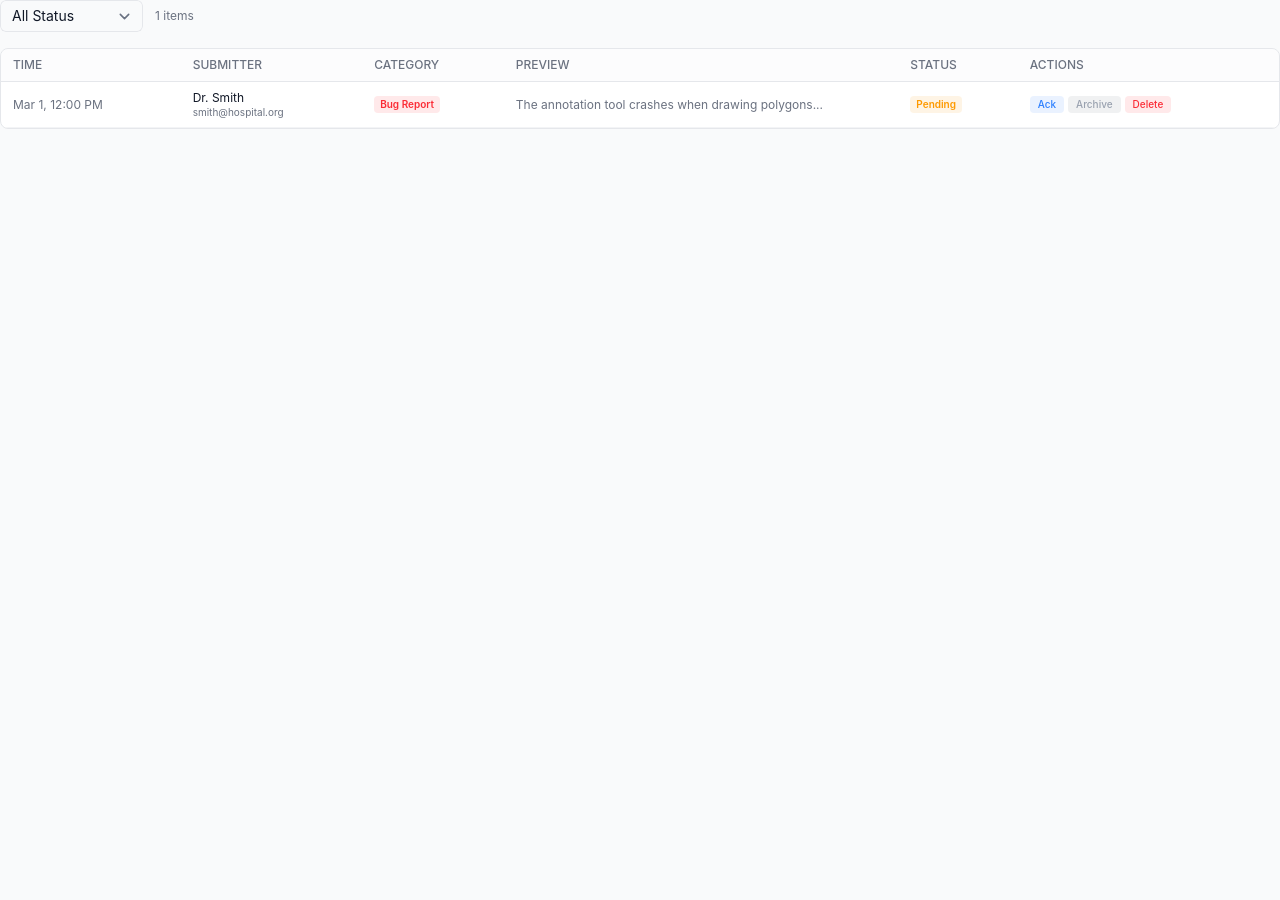
Scenario: Admin Feedback Page › delete with confirmation › closes dialog on cancel without deleting
Step 1. Click the button "Delete" → [1148, 105], box [1125,96,1171,113]
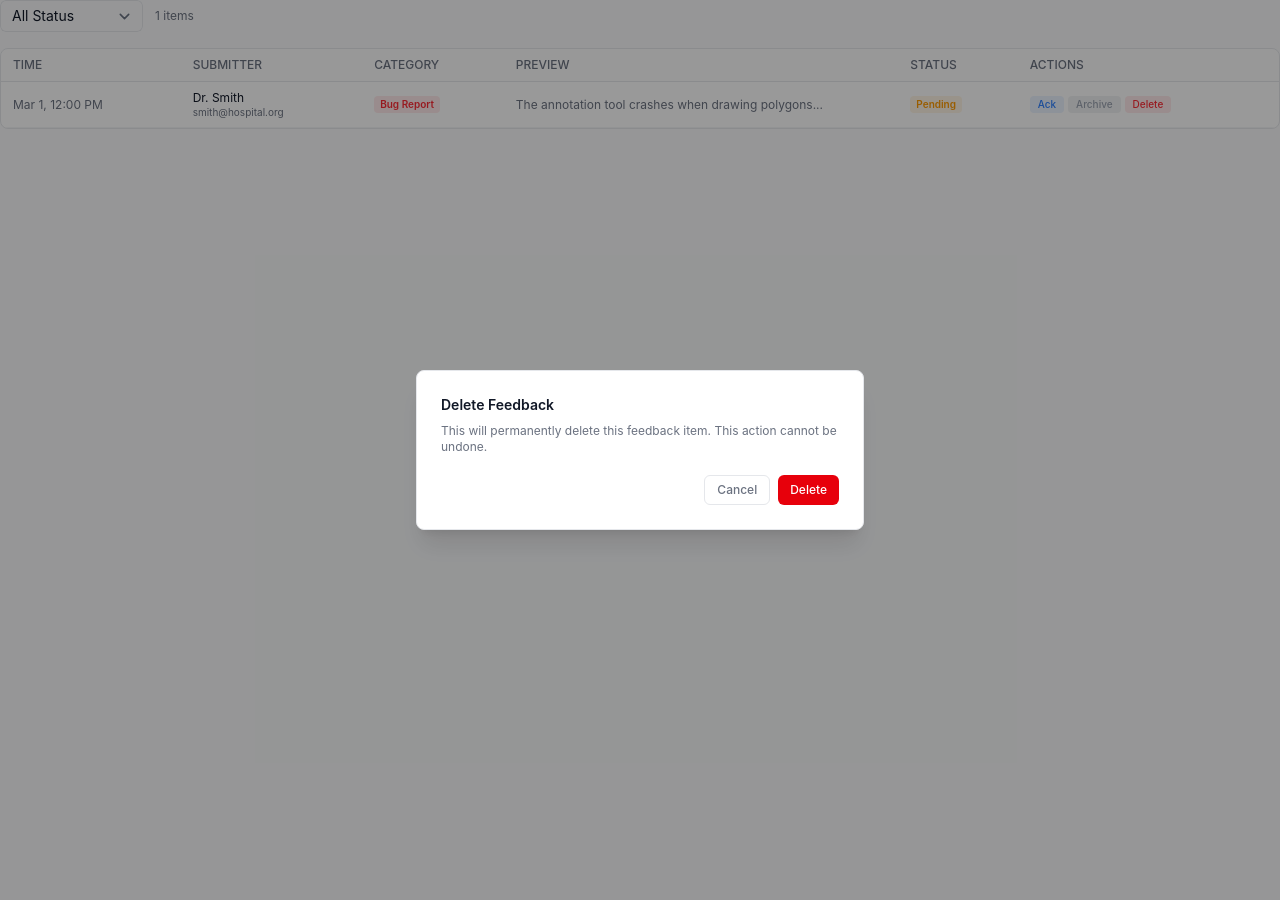
Check: the text "Delete Feedback" is shown, box [441,396,554,413]
Step 2. Click the button "Cancel" → [737, 490], box [704,475,770,505]
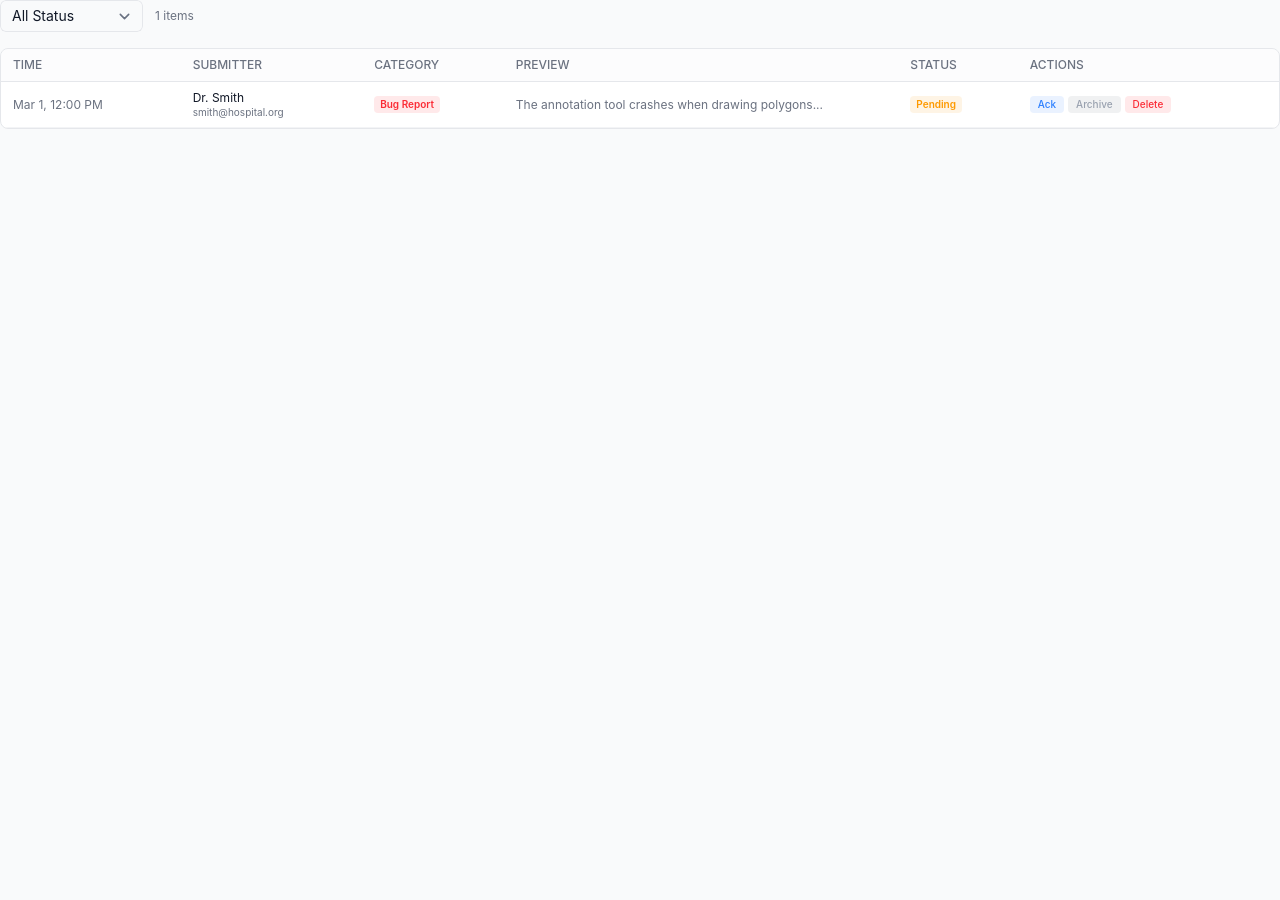
Check: the text "permanently delete" is gone
